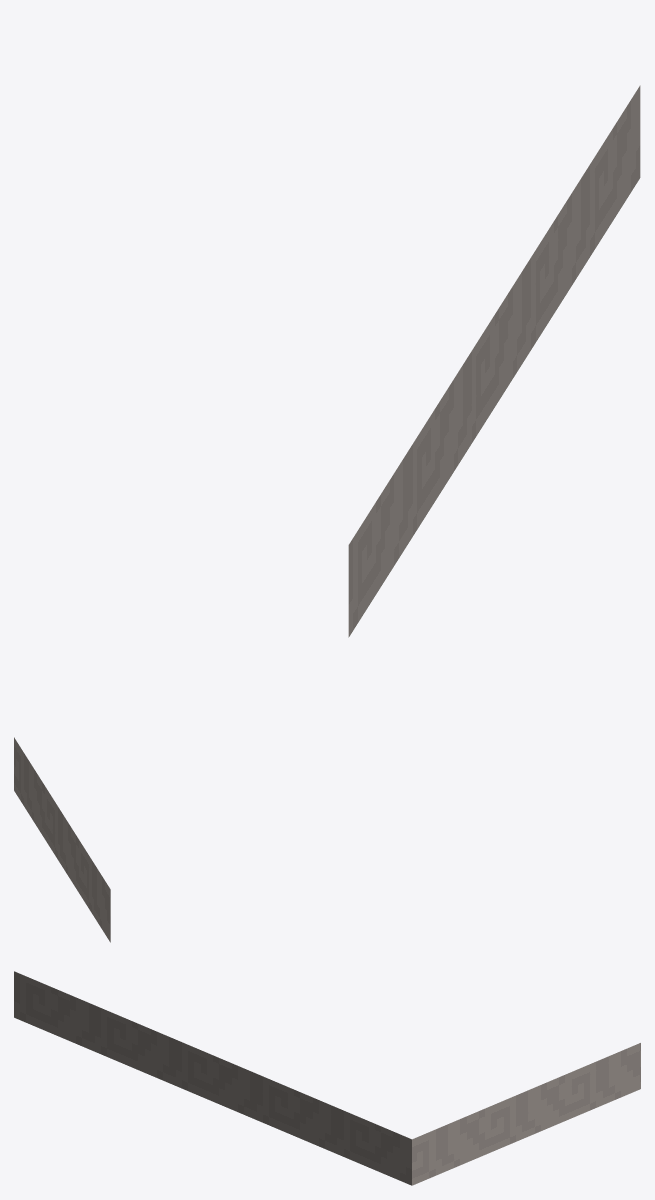
File: kd_stage_135c43_4_96_bounded_piece_3.glb
3 renders of one model, top to bottom at view 1: azimuth 30°, elevation 25°; view 2: azimuth 150°, elevation 25°; view 3: azimuth 270°, elevation 25°, orthographic. The views are drawn at different scales.
Visible parts, largest first — view 1: kd_stage_135c43_4_96_bounded_piece_3; view 2: kd_stage_135c43_4_96_bounded_piece_3; view 3: kd_stage_135c43_4_96_bounded_piece_3.
Part boxes in pixels (x1,y1,x2,y2): kd_stage_135c43_4_96_bounded_piece_3: [348, 85, 640, 637]; kd_stage_135c43_4_96_bounded_piece_3: [14, 737, 110, 942]; kd_stage_135c43_4_96_bounded_piece_3: [14, 971, 640, 1185].
Size of the model in its own units: 0.6218 by 0.08 by 0.9794.
Materials: 1 (1 with a texture image).
